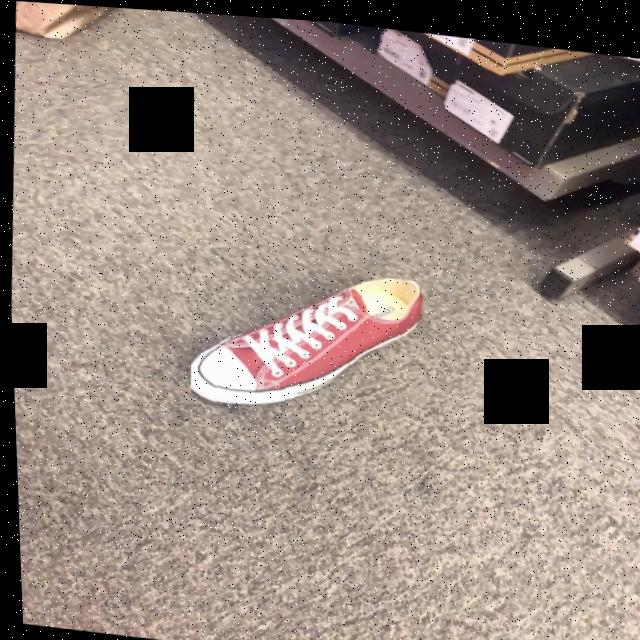shoe: (188, 274, 423, 405)
